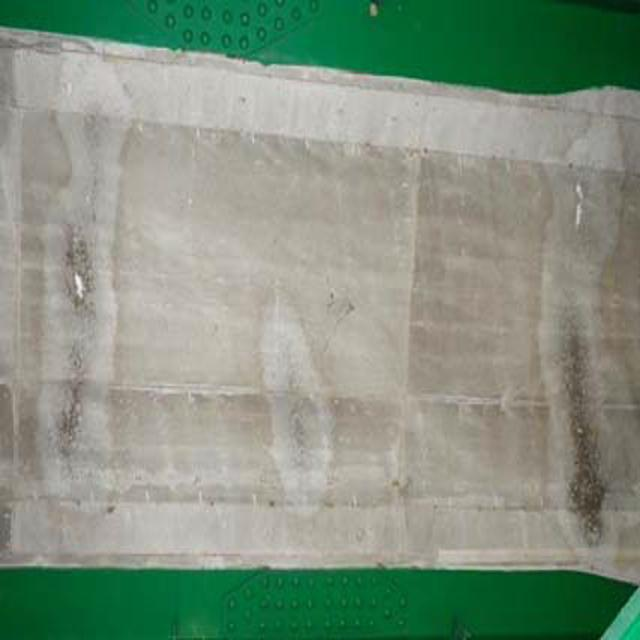leakage: (522, 99, 624, 554), (40, 41, 121, 512), (243, 279, 333, 534)
